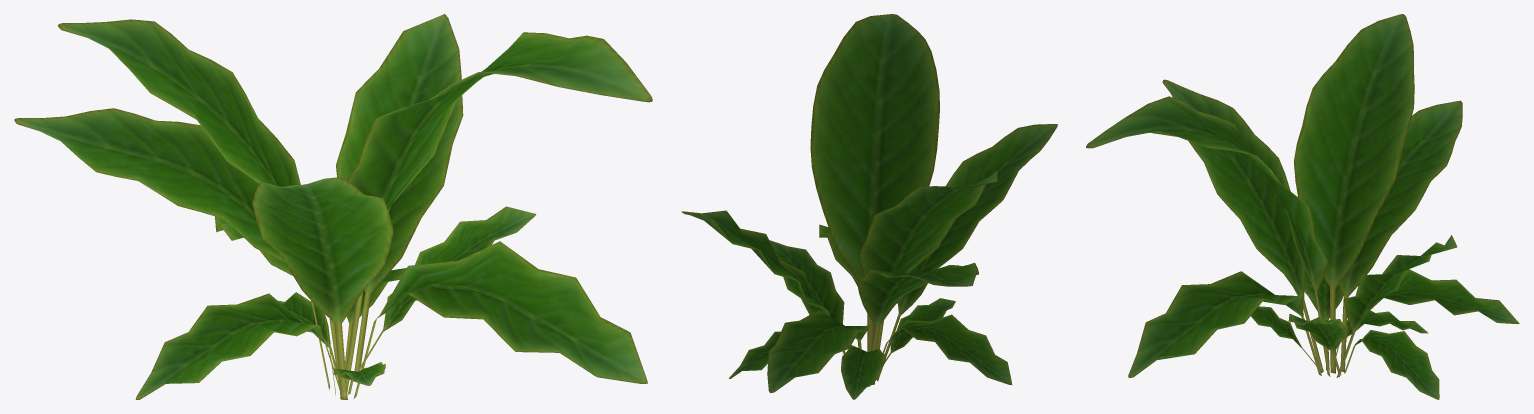
The model's file is plante-3.glb.
3 renders of one model, left to right at view 1: azimuth 30°, elevation 25°; view 2: azimuth 150°, elevation 25°; view 3: azimuth 270°, elevation 25°, orthographic. The views are drawn at different scales.
Parts seen in each view (by area): view 1: Object_5.492; view 2: Object_5.492; view 3: Object_5.492.
Boxes of the visible parts, x1=… form: Object_5.492: x1=14, y1=14, x2=652, y2=399; Object_5.492: x1=681, y1=14, x2=1057, y2=399; Object_5.492: x1=1086, y1=14, x2=1519, y2=399.
Size of the model in its own units: 0.7442 by 0.6817 by 0.9115.
1 material, 1 textured.
